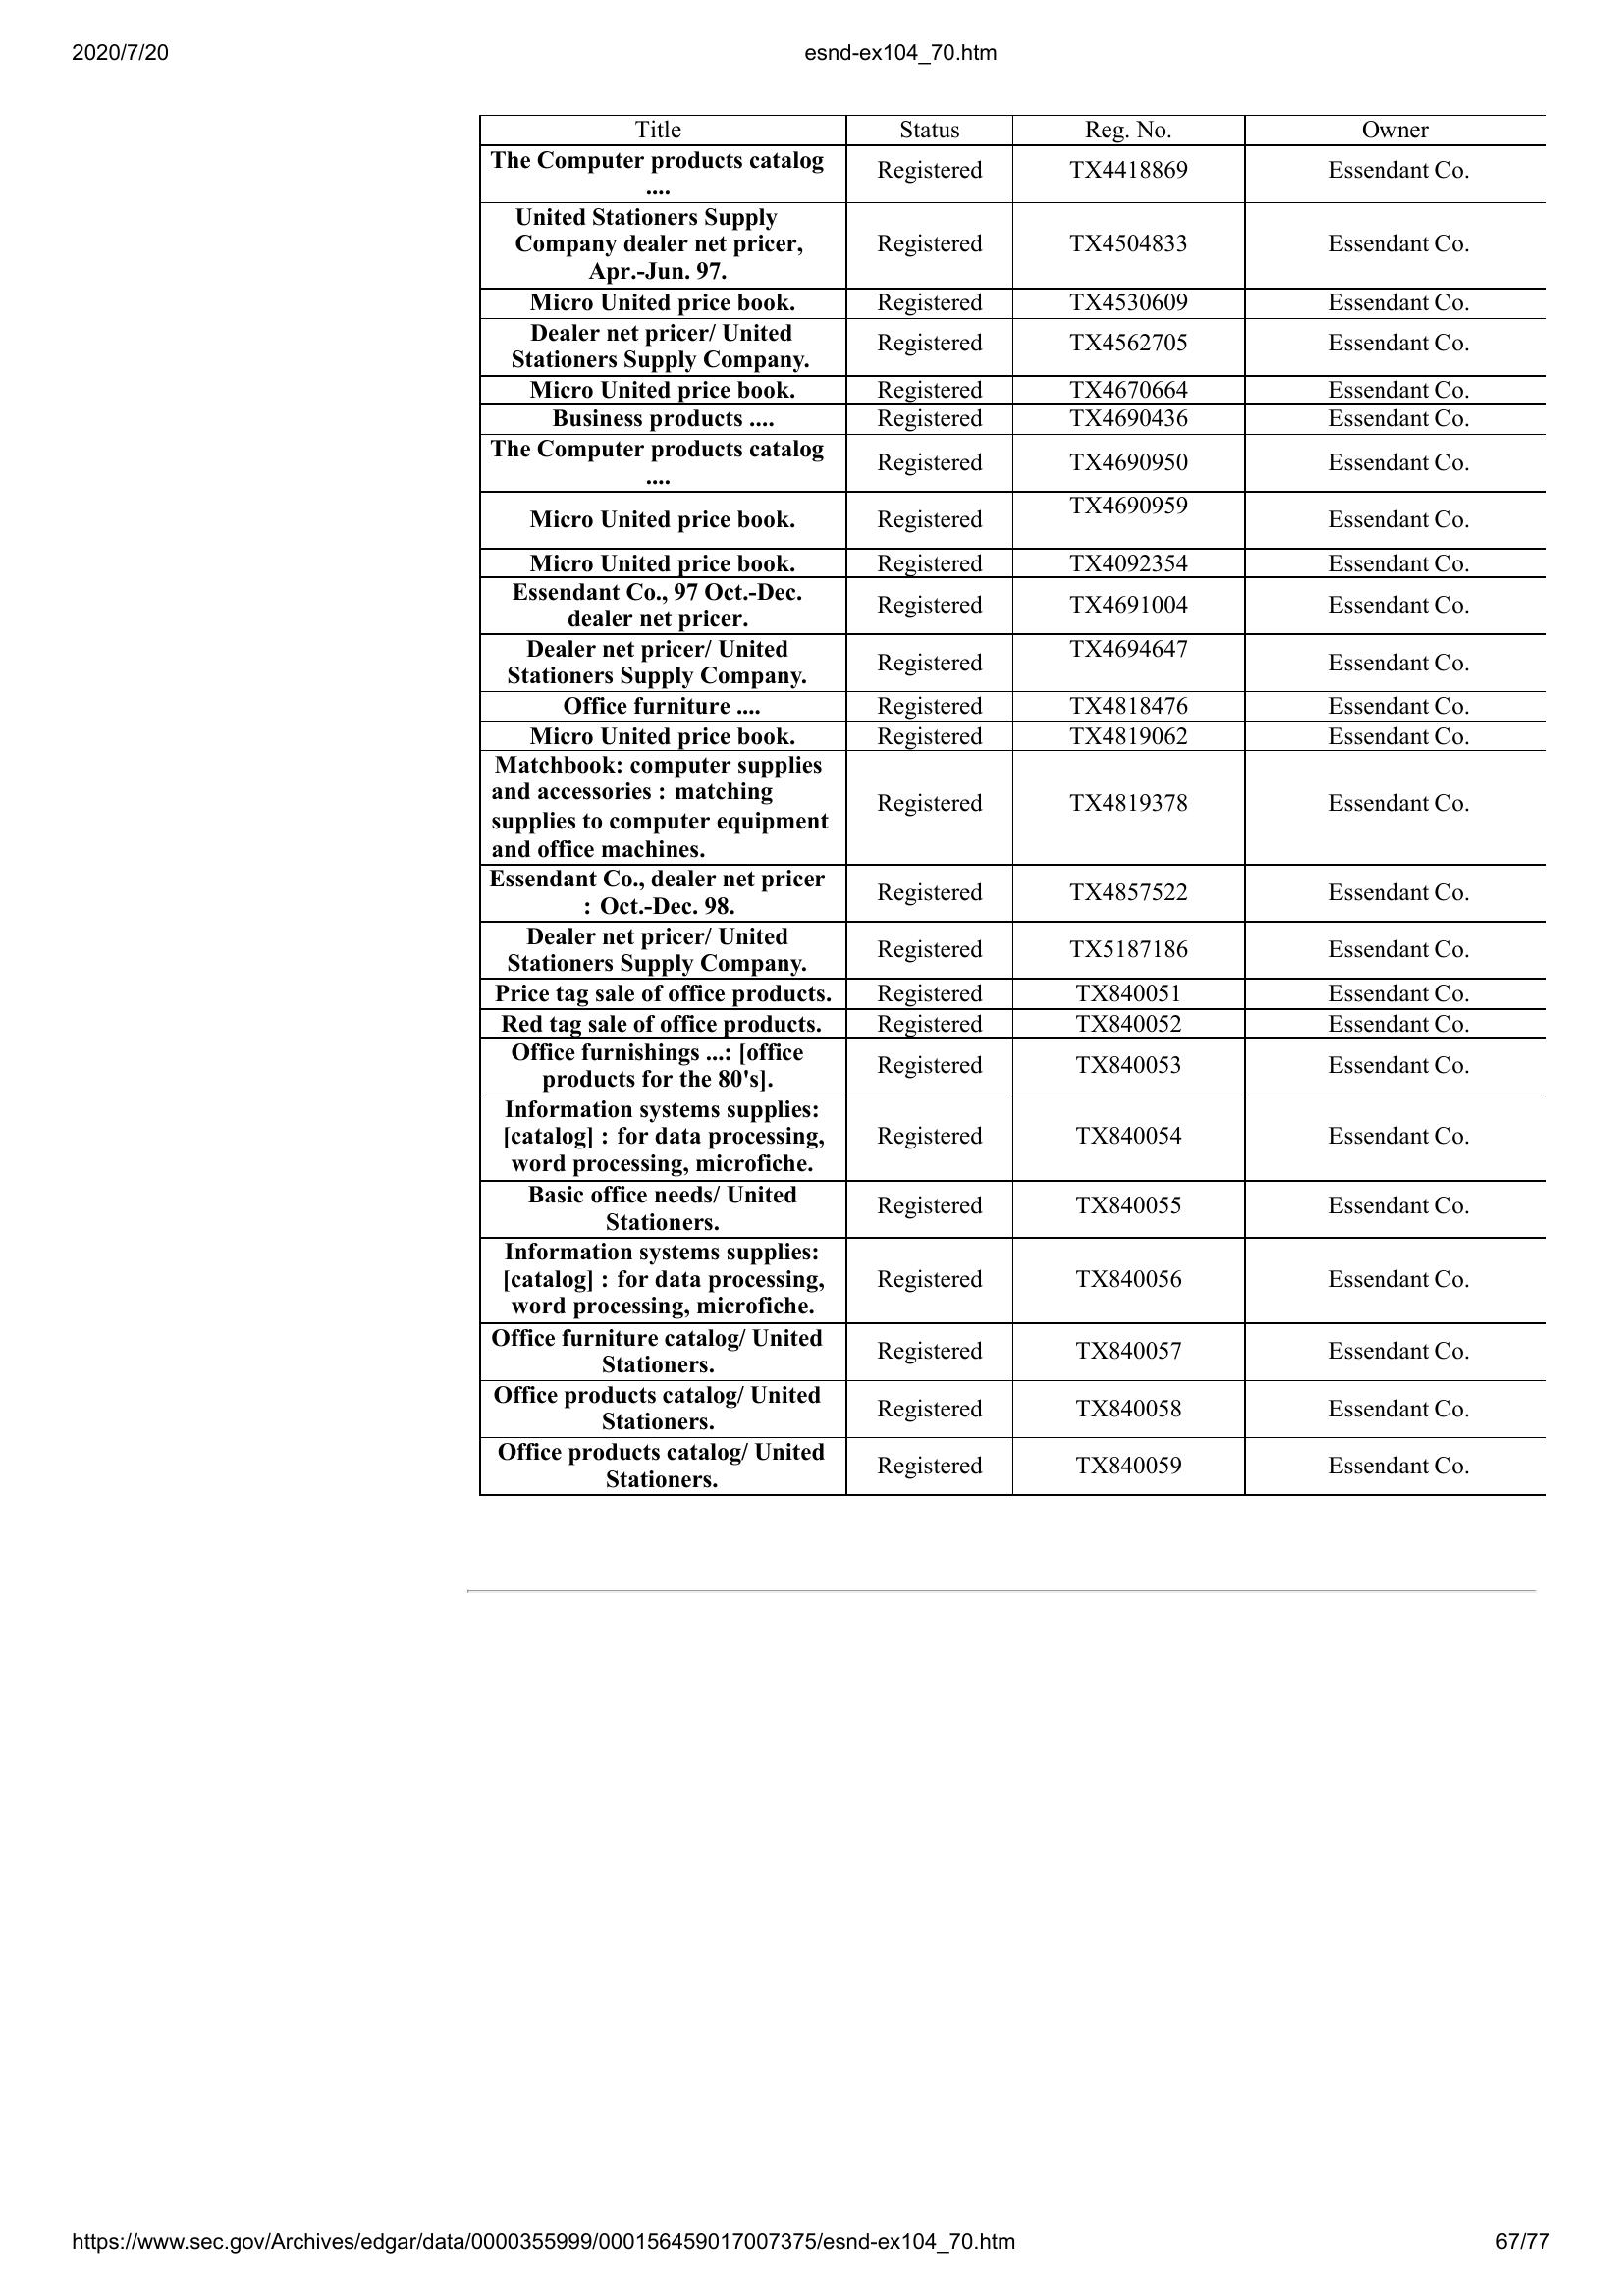table: (472, 104, 1558, 1503)
